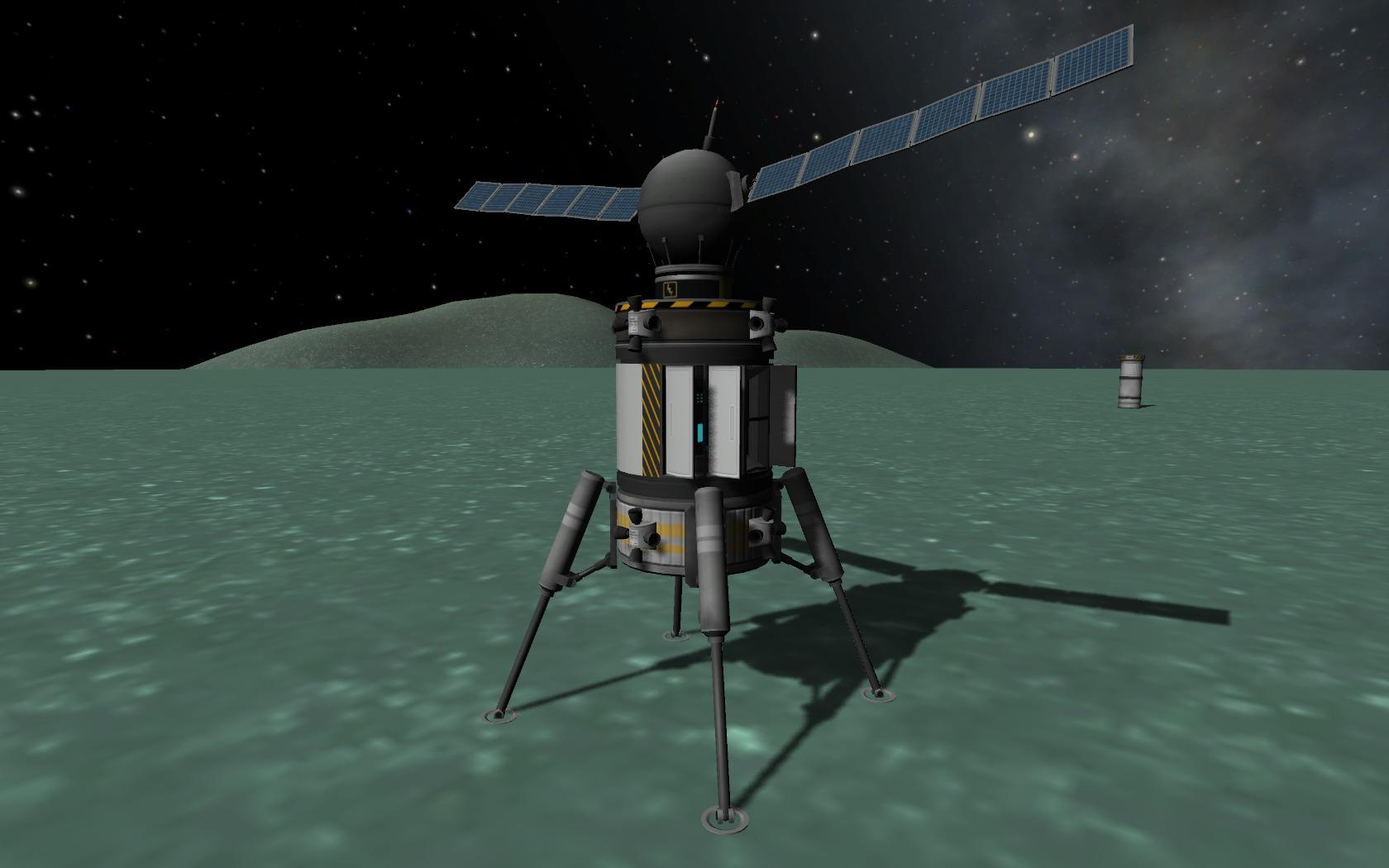antenna: (700, 94, 723, 150)
body: (596, 144, 792, 579)
solar: (747, 26, 1138, 208), (455, 179, 645, 224)
thruster: (626, 333, 646, 358), (643, 528, 662, 548), (625, 546, 645, 565), (609, 523, 631, 540), (747, 317, 766, 336), (770, 315, 788, 334), (760, 336, 777, 354), (760, 293, 776, 312), (642, 314, 661, 330), (628, 504, 643, 524), (628, 293, 642, 314), (747, 526, 764, 541), (613, 314, 627, 331), (760, 503, 773, 518)
